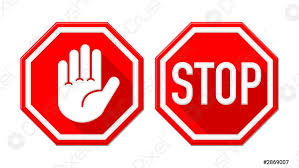SS: (155, 21, 279, 145)
